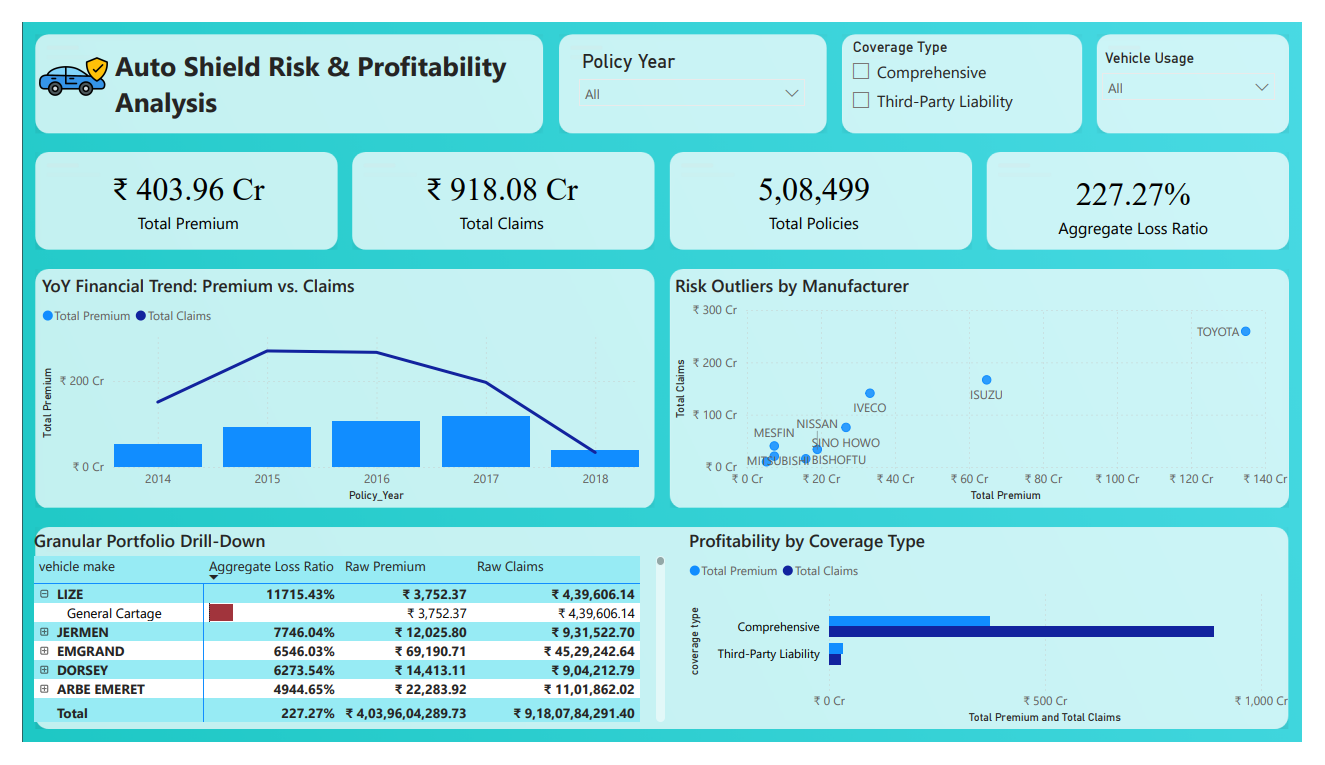

This screenshot's page, from the dashboard's own definition file:
{"tool":"powerbi","page":{"name":"Page 1","canvas":[1280,720],"ordinal":0},"visuals":[{"type":"card","fields":{"Values":["_Key Measures.Total Premium"]},"box":[27,140,278.9,72.2],"z":0},{"type":"textbox","box":[88,20,435,86],"z":1000},{"type":"card","fields":{"Values":["_Key Measures.Total Claims"]},"box":[328,140,304,72],"z":2000},{"type":"card","fields":{"Values":["_Key Measures.Total Policies"]},"box":[647.8,140,287.8,72.2],"z":3000},{"type":"card","fields":{"Values":["_Key Measures.Aggregate Loss Ratio"]},"box":[960,140,303.3,83.3],"z":4000},{"type":"slicer","fields":{"Values":["autoshield_risk_db gold_insurance_metrics.Policy_Year"]},"box":[547,23,246,73],"z":5000},{"type":"lineClusteredColumnComboChart","title":"YoY Financial Trend: Premium vs. Claims","fields":{"Category":["autoshield_risk_db gold_insurance_metrics.Policy_Year"],"Y":["_Key Measures.Total Premium"],"Y2":["_Key Measures.Total Claims"]},"box":[15,251,607,233],"z":6000},{"type":"scatterChart","title":"Risk Outliers by Manufacturer","fields":{"Category":["autoshield_risk_db gold_insurance_metrics.vehicle_make"],"X":["_Key Measures.Total Premium"],"Y":["_Key Measures.Total Claims"]},"box":[648,251,623,233],"z":7000},{"type":"pivotTable","title":"Granular Portfolio Drill-Down","fields":{"Rows":["autoshield_risk_db gold_insurance_metrics.vehicle_make","autoshield_risk_db gold_insurance_metrics.vehicle_usage"],"Values":["_Key Measures.Aggregate Loss Ratio","_Key Measures.Raw Premium","_Key Measures.Raw Claims"]},"box":[7,506,641,199],"z":8000},{"type":"clusteredBarChart","title":"Profitability by Coverage Type","fields":{"Category":["autoshield_risk_db gold_insurance_metrics.coverage_type"],"Y":["_Key Measures.Total Premium","_Key Measures.Total Claims"]},"box":[662,506,609,200],"z":9000},{"type":"slicer","fields":{"Values":["autoshield_risk_db gold_insurance_metrics.coverage_type"]},"box":[817.8,12.2,242.2,94.4],"z":10000},{"type":"slicer","fields":{"Values":["autoshield_risk_db gold_insurance_metrics.vehicle_usage"]},"box":[1070,23.3,193.3,84.4],"z":11000},{"type":"image","box":[15,20,73,69],"z":12000}]}

Visuals, with their boxes in screenshot pixels (x1, y1, x2, y2), scaled from the page's 1280x720 canvas onto the 1325x765 screenshot:
card - _Key Measures.Total Premium: l=28, t=149, r=317, b=225
textbox: l=91, t=21, r=541, b=113
card - _Key Measures.Total Claims: l=340, t=149, r=654, b=225
card - _Key Measures.Total Policies: l=671, t=149, r=968, b=225
card - _Key Measures.Aggregate Loss Ratio: l=994, t=149, r=1308, b=237
slicer - autoshield_risk_db gold_insurance_metrics.Policy_Year: l=566, t=24, r=821, b=102
"YoY Financial Trend: Premium vs. Claims" lineClusteredColumnComboChart: l=16, t=267, r=644, b=514
"Risk Outliers by Manufacturer" scatterChart: l=671, t=267, r=1316, b=514
"Granular Portfolio Drill-Down" pivotTable: l=7, t=538, r=671, b=749
"Profitability by Coverage Type" clusteredBarChart: l=685, t=538, r=1316, b=750
slicer - autoshield_risk_db gold_insurance_metrics.coverage_type: l=847, t=13, r=1097, b=113
slicer - autoshield_risk_db gold_insurance_metrics.vehicle_usage: l=1108, t=25, r=1308, b=114
image: l=16, t=21, r=91, b=95
